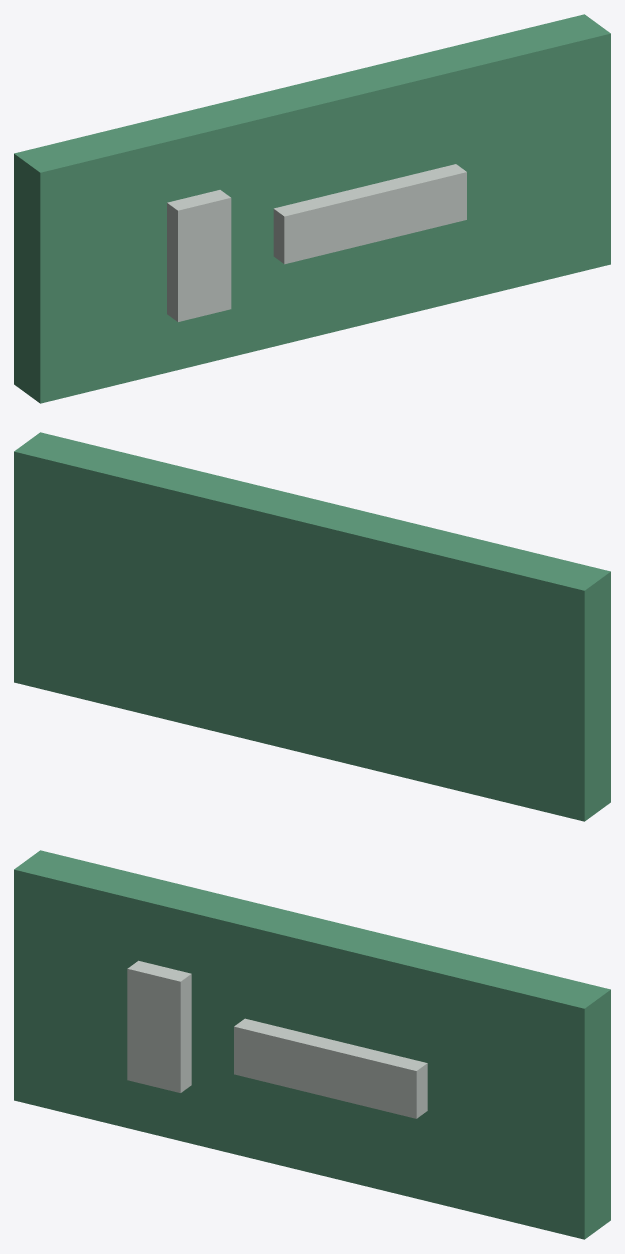
The model's file is exit_sign_lod0.glb.
3 views of the same model, one above another, from view 1: azimuth 30°, elevation 25°; view 2: azimuth 150°, elevation 25°; view 3: azimuth 330°, elevation 25° (orthographic).
Parts seen in each view (by area): view 1: part_0, part_1, part_2; view 2: part_0; view 3: part_0, part_1, part_2.
Boxes of the visible parts, x1,y1,x2,y2 form: part_0: (14, 14, 610, 403); part_1: (273, 164, 466, 264); part_2: (167, 190, 231, 321); part_0: (14, 432, 610, 821); part_0: (14, 850, 610, 1239); part_1: (234, 1018, 427, 1118); part_2: (127, 960, 191, 1092).
Size of the model in its own units: 1.5 by 0.58 by 0.175.
